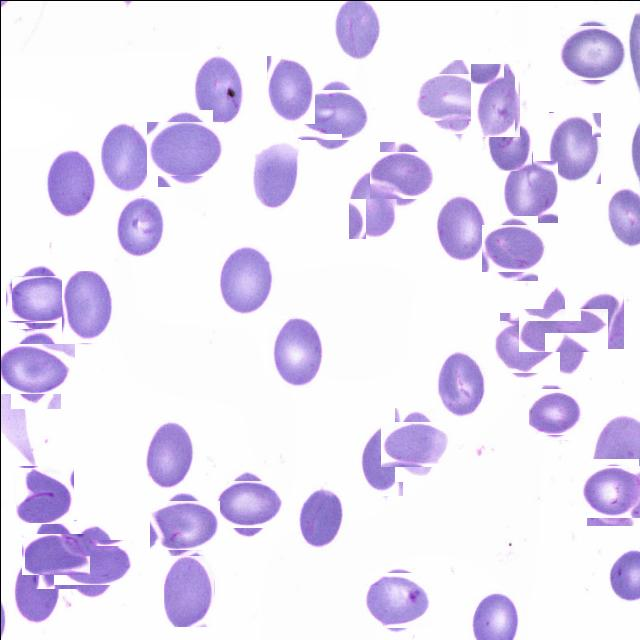red blood cell: (530, 296, 596, 363), (152, 114, 218, 180), (2, 336, 68, 400), (62, 530, 125, 593), (270, 314, 322, 388), (302, 84, 364, 146), (548, 112, 601, 184), (43, 146, 96, 218), (219, 244, 273, 314), (144, 417, 195, 491), (191, 54, 244, 125), (61, 270, 113, 342), (367, 569, 428, 630), (470, 62, 520, 136), (434, 192, 488, 260), (436, 346, 487, 418), (163, 554, 214, 626), (561, 22, 622, 82), (421, 66, 482, 126), (98, 122, 150, 192), (10, 268, 70, 328), (250, 138, 300, 210), (386, 414, 446, 474), (154, 494, 214, 554), (496, 316, 555, 376), (500, 160, 557, 222), (11, 554, 61, 624), (218, 474, 278, 532), (348, 167, 397, 238), (564, 290, 623, 348), (583, 461, 640, 521), (266, 55, 314, 123), (374, 146, 431, 203), (485, 220, 541, 276), (16, 466, 72, 522), (114, 196, 166, 256), (28, 526, 83, 581), (360, 424, 402, 495), (297, 484, 343, 548), (530, 386, 580, 437), (486, 115, 532, 170)
